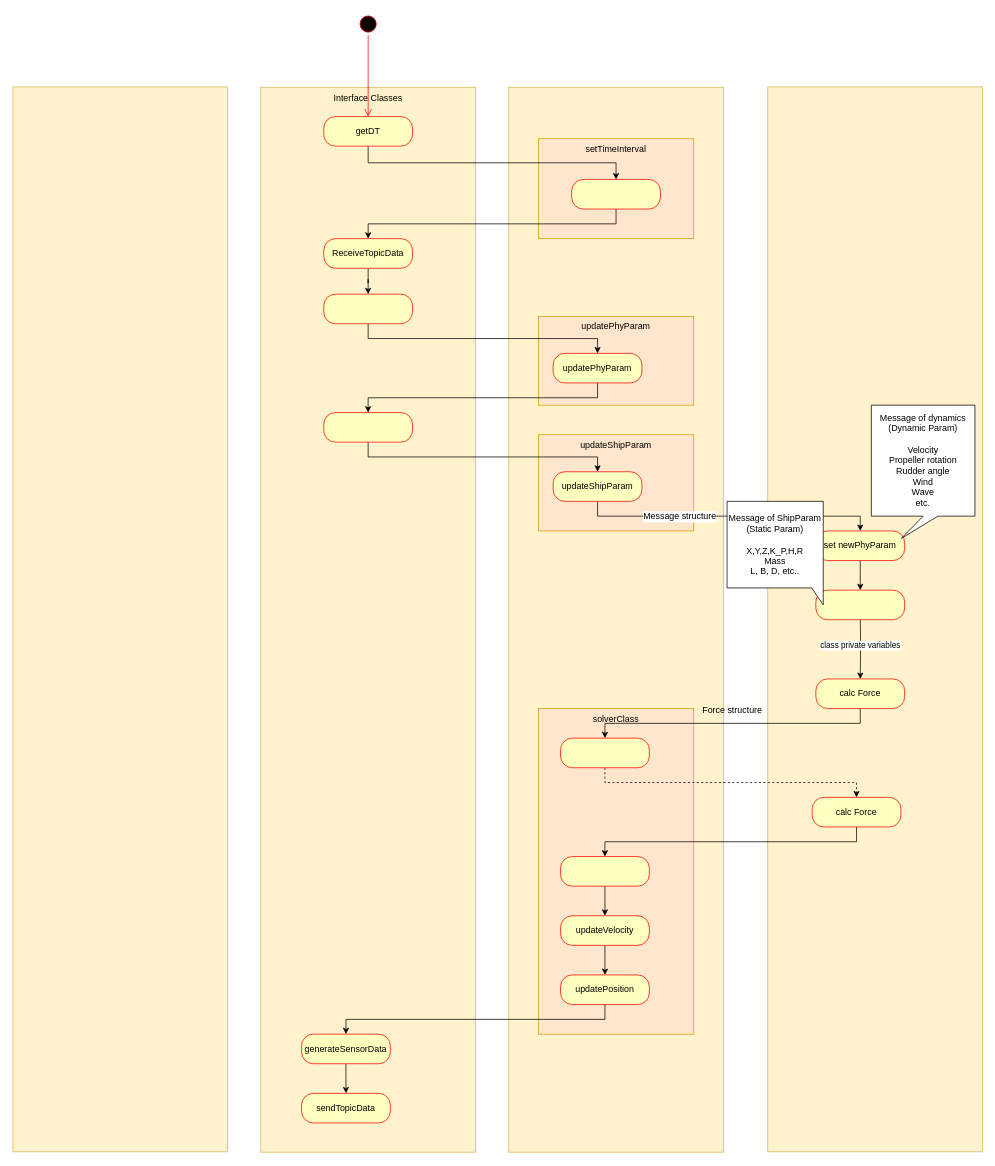
Some shapes in this 995 by 1166 pixel diagram are drawn without their labels. The box of each missing label's shape, as (x1, y1, x2, y2) in pixels:
Dynamics Model Class: (767, 86, 982, 1152)
generateControlParam: (323, 293, 413, 324)
Node Class: (12, 86, 228, 1152)
ReceiveParam: (323, 412, 413, 442)
set newShipParam: (815, 589, 905, 620)
setDT: (571, 179, 660, 209)
setForce to Rungekutta1st buffer: (560, 737, 649, 768)
setForce to Rungekutta4th buffer: (560, 856, 649, 886)
Shipsim Core: (508, 87, 723, 1152)
